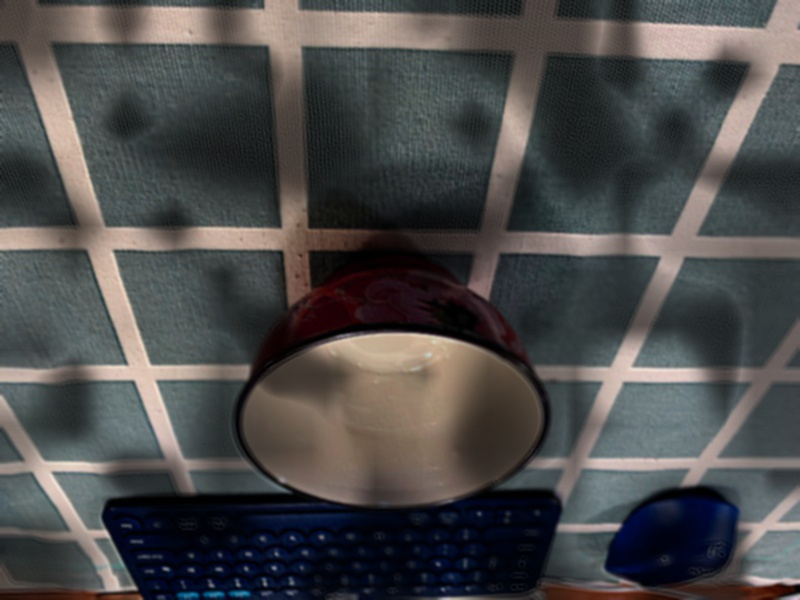bowl_small: (228, 245, 559, 517)
